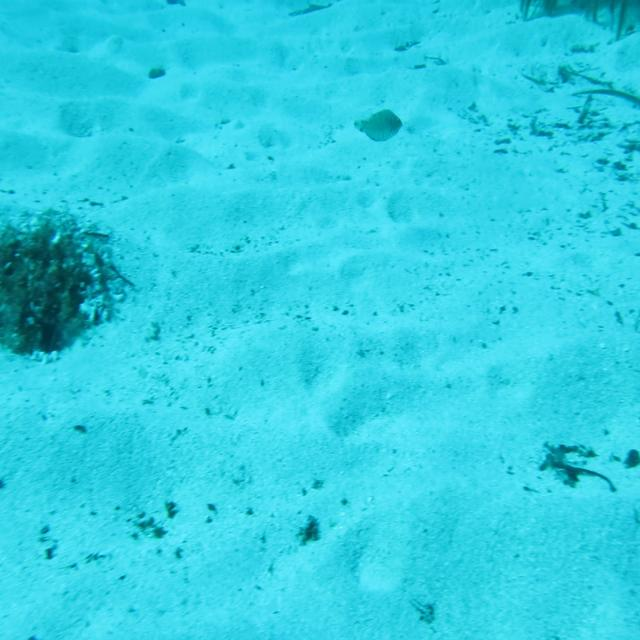SA: (348, 101, 411, 152)
core_nest: (17, 242, 66, 278)
nest: (0, 210, 127, 362)
